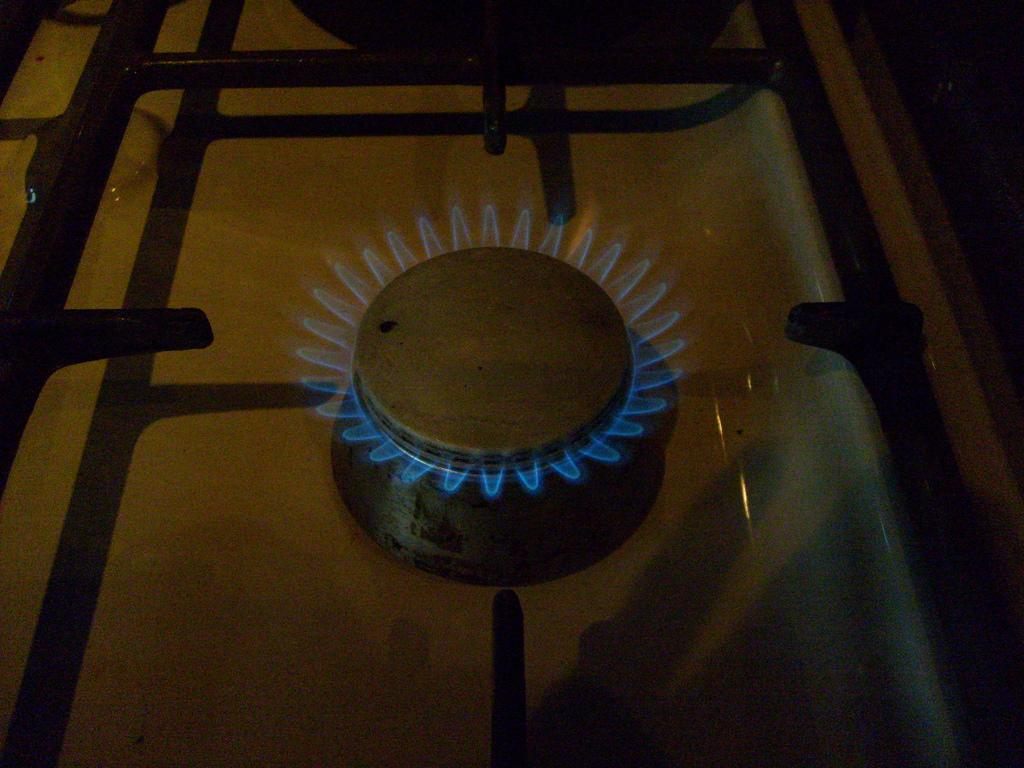fire: (600, 418, 648, 452), (634, 360, 670, 402), (306, 340, 342, 378), (348, 416, 382, 452), (400, 448, 432, 486), (438, 456, 464, 498), (536, 214, 572, 244), (592, 262, 624, 290), (478, 470, 504, 504), (644, 302, 660, 354), (554, 452, 578, 482), (460, 232, 504, 246), (348, 260, 378, 278), (328, 292, 348, 316), (404, 228, 432, 240)
